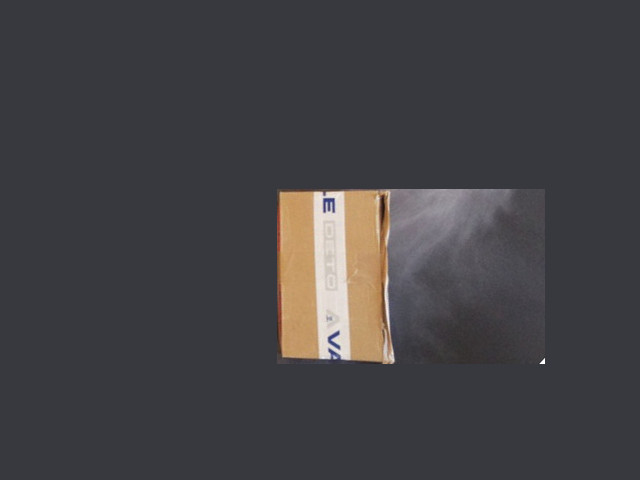cardboard: (278, 191, 394, 362)
